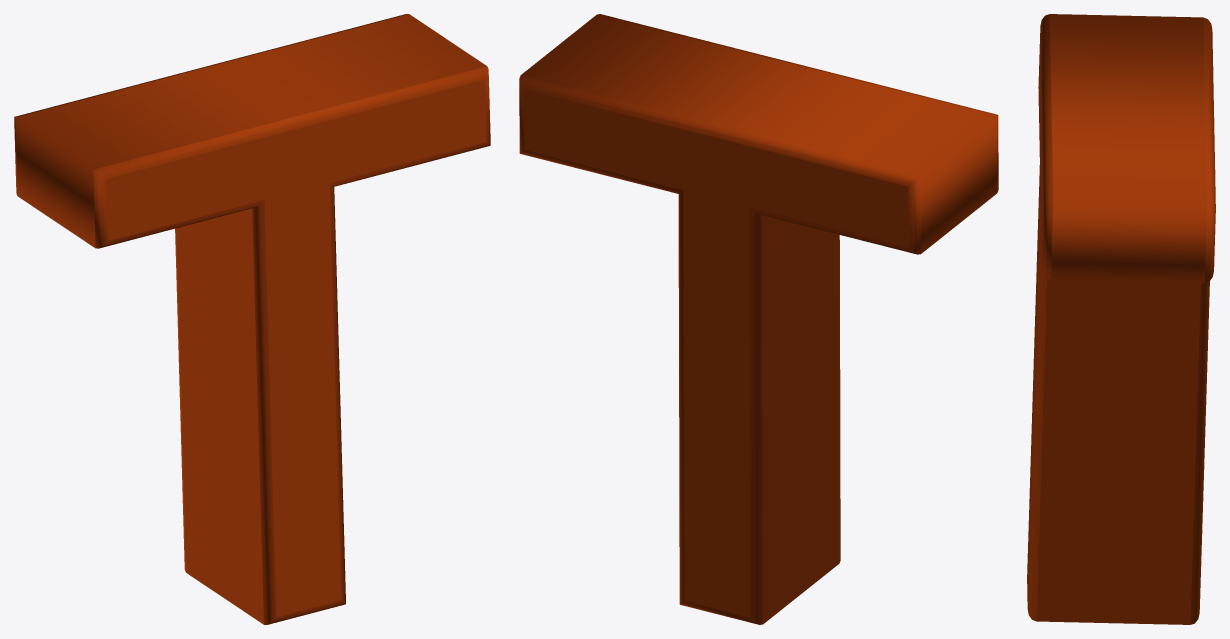
Rendered from letters_T.obj.
The picture shows the model from 3 angles, left to right: view 1: azimuth 30°, elevation 25°; view 2: azimuth 150°, elevation 25°; view 3: azimuth 270°, elevation 25°; orthographic projection.
Visible parts, largest first — view 1: Text; view 2: Text; view 3: Text.
Boxes of the visible parts, x1=… form: Text: x1=14, y1=14, x2=490, y2=624; Text: x1=519, y1=14, x2=998, y2=624; Text: x1=1027, y1=14, x2=1215, y2=624.
Size of the model in its own units: 0.597 by 0.7161 by 0.2458.
